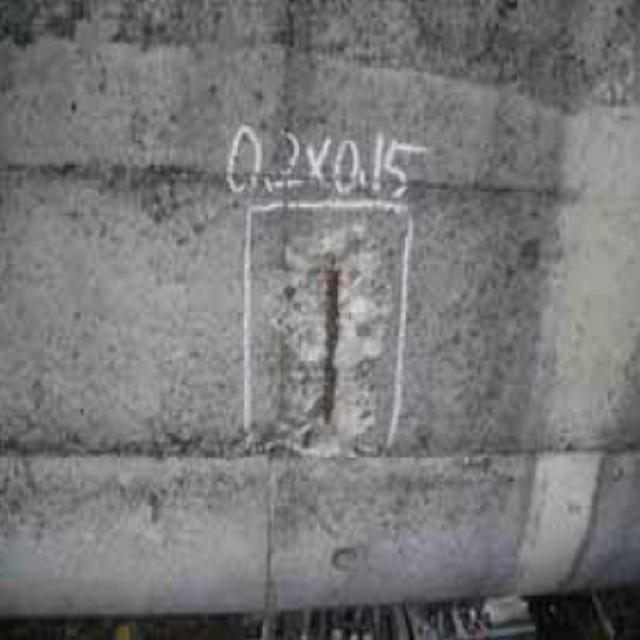spalling: (270, 218, 376, 472)
